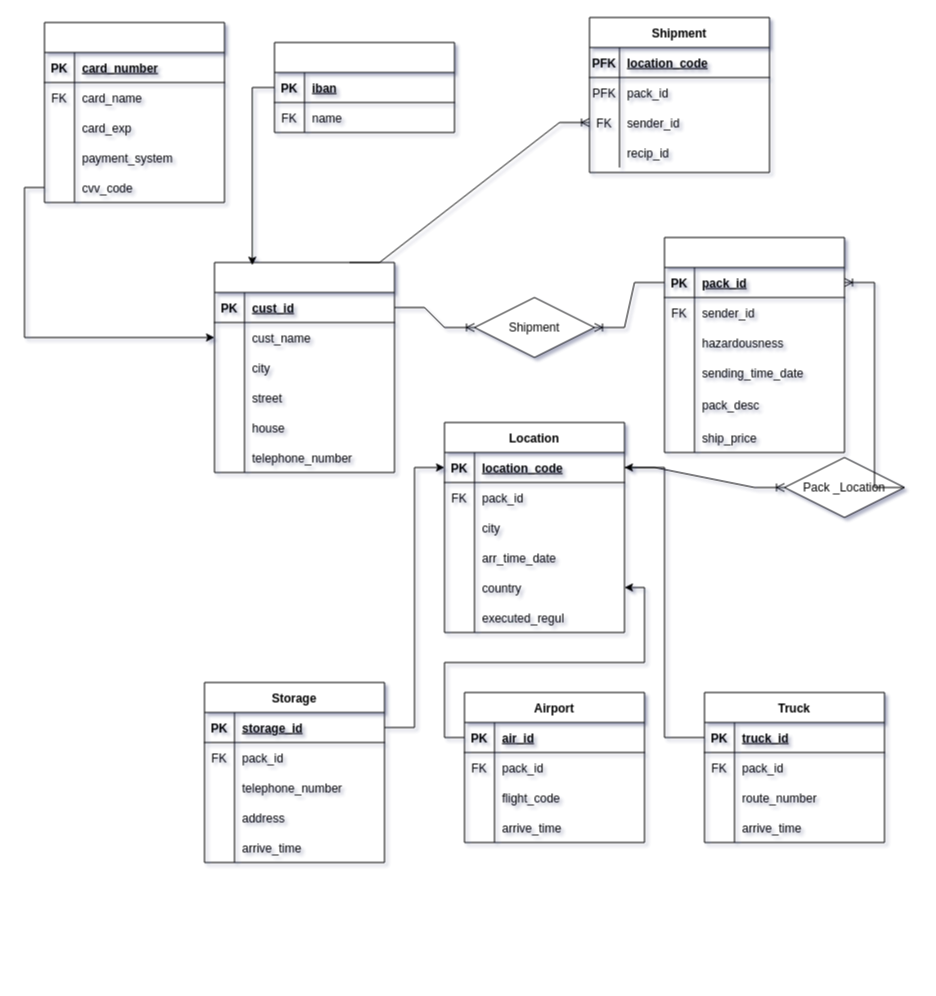
Image size: 936x996. Some labels were removed from this diagram. The box of each missing label's shape, as (x1, y1, x2, y2) in pixels:
Bank: (274, 42, 454, 132)
Customers: (214, 262, 394, 472)
Package: (664, 236, 844, 452)
Payment Data: (44, 22, 224, 202)
